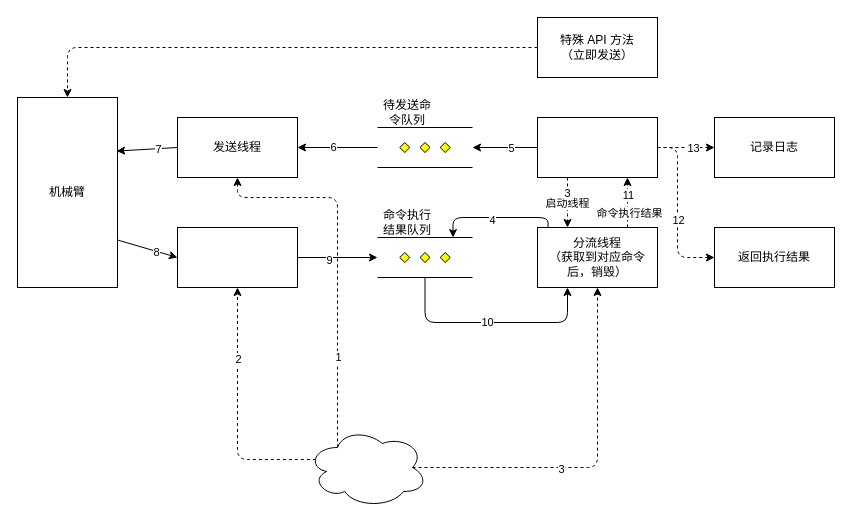
The diagram is 852 pixels wide and 525 high, and some of its shapes have lost their labels. The shapes that lost their labels are listed below. From the top down, each one's centre as x and y in pixels, then its label:
At point (597, 147): "普通 API 方法".
At point (237, 257): "接收线程".
At point (367, 467): "线程池 max=10".
